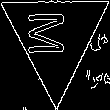M_E: (33, 14, 78, 61)
